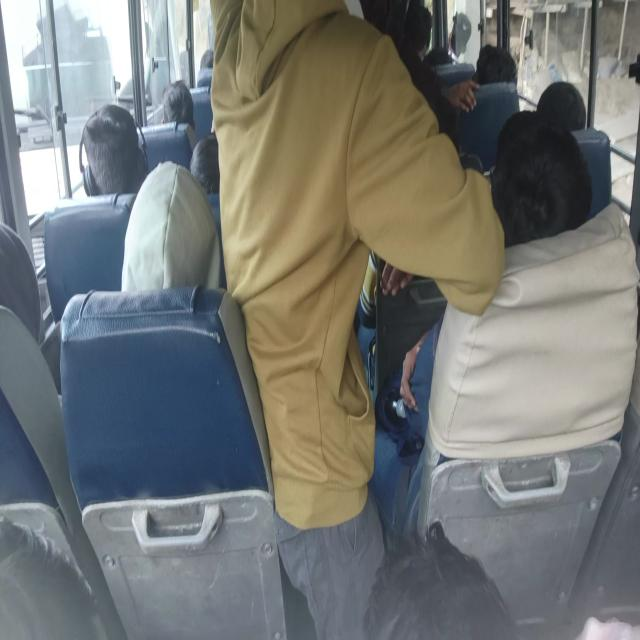person: (208, 0, 506, 638), (490, 108, 592, 248), (120, 159, 222, 292), (80, 102, 148, 196), (160, 79, 196, 152), (536, 80, 586, 132), (189, 132, 220, 194)
